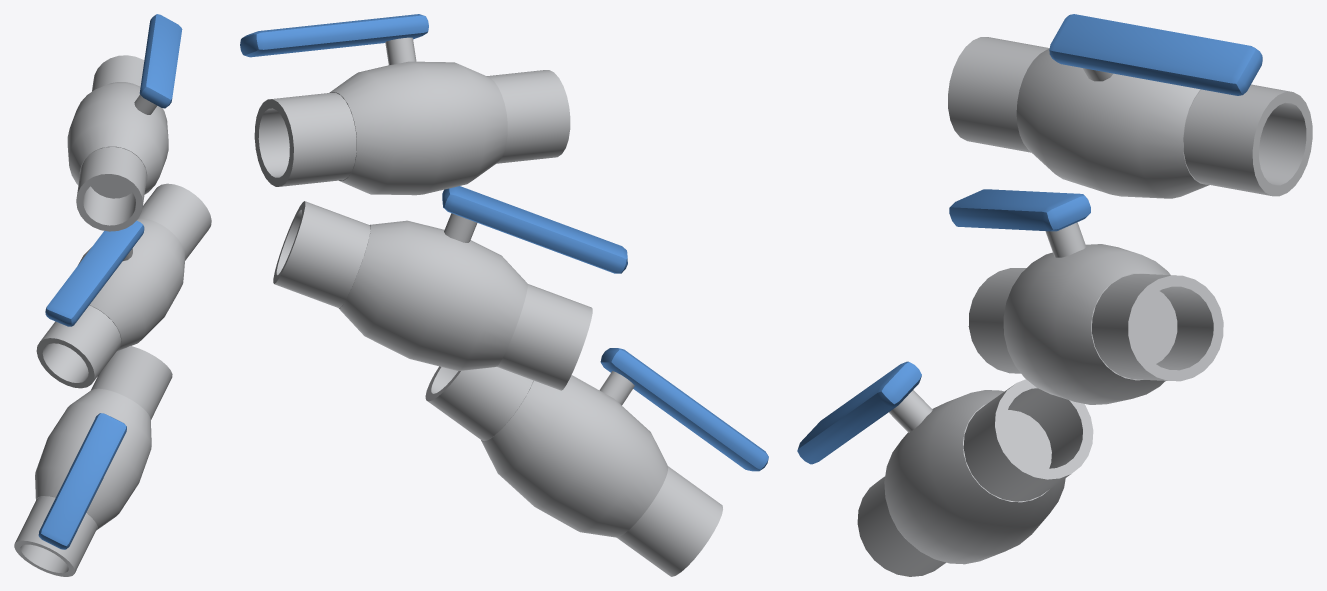
File: HID-REG-002_anim.glb
3 views of the same model, side by side, from view 1: azimuth 30°, elevation 25°; view 2: azimuth 150°, elevation 25°; view 3: azimuth 270°, elevation 25° (orthographic). The views are drawn at different scales.
Parts seen in each view (by area): view 1: HID-REG-002_anim0, HID-REG-002_anim1, HID-REG-002_anim2; view 2: HID-REG-002_anim1, HID-REG-002_anim2, HID-REG-002_anim0; view 3: HID-REG-002_anim2, HID-REG-002_anim1, HID-REG-002_anim0.
Part boxes in pixels (left/top/right/bottom): HID-REG-002_anim0: left=14, top=346, right=172, bottom=576; HID-REG-002_anim1: left=36, top=183, right=211, bottom=388; HID-REG-002_anim2: left=67, top=14, right=182, bottom=231; HID-REG-002_anim1: left=273, top=186, right=627, bottom=390; HID-REG-002_anim2: left=240, top=14, right=570, bottom=195; HID-REG-002_anim0: left=425, top=348, right=768, bottom=576; HID-REG-002_anim2: left=948, top=14, right=1312, bottom=198; HID-REG-002_anim1: left=949, top=189, right=1223, bottom=404; HID-REG-002_anim0: left=797, top=361, right=1093, bottom=576.
Bounding box in the file's own units: 0.147 × 0.2256 × 0.1532.
